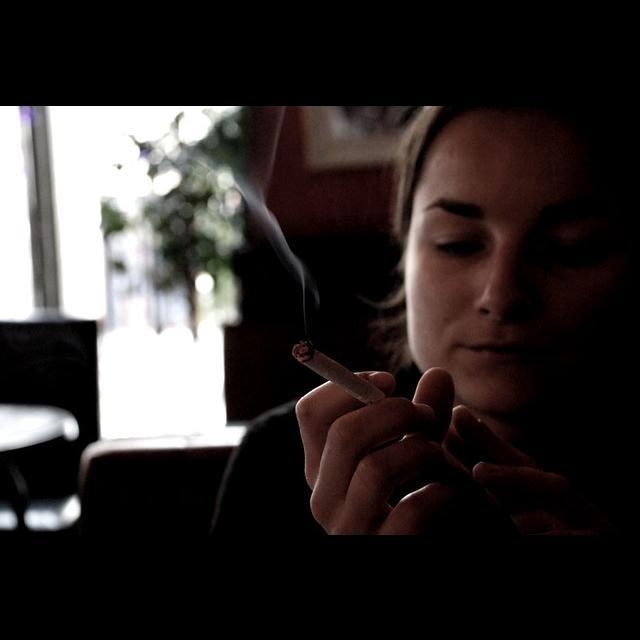rokok: (283, 335, 379, 415)
